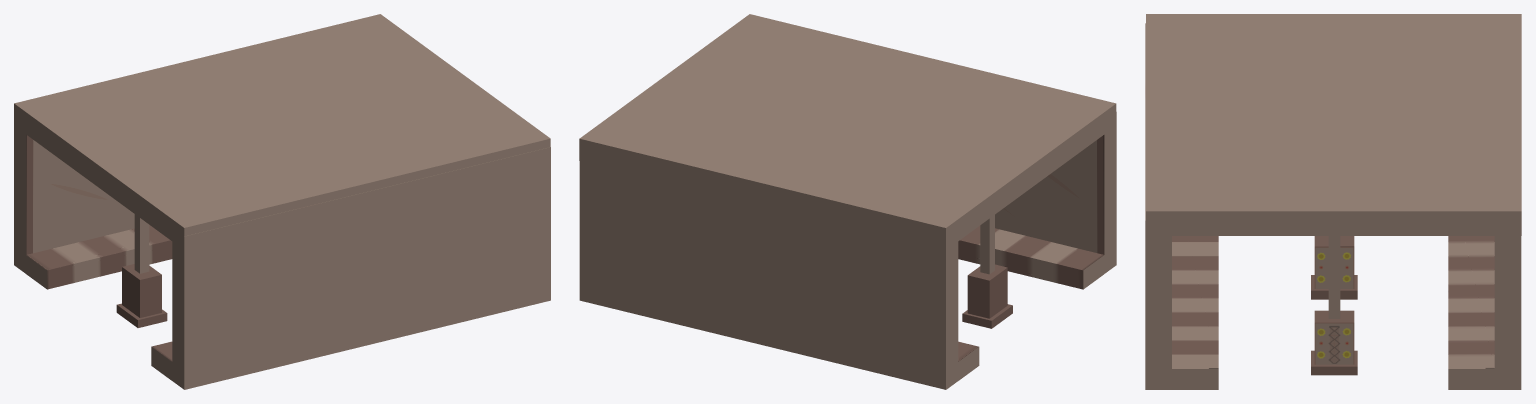
The model's file is tunnel.fbx.
3 renders of one model, left to right at view 1: azimuth 30°, elevation 25°; view 2: azimuth 150°, elevation 25°; view 3: azimuth 270°, elevation 25°, orthographic. The views are drawn at different scales.
Visible parts, largest first — view 1: Cube.006; view 2: Cube.006; view 3: Cube.006.
Part boxes in pixels (box(x1,y1,x2,y2)): Cube.006: box(14, 14, 550, 389); Cube.006: box(579, 14, 1116, 389); Cube.006: box(1145, 14, 1521, 389).
Bounding box in the file's own units: 2000 × 845 × 1611.
